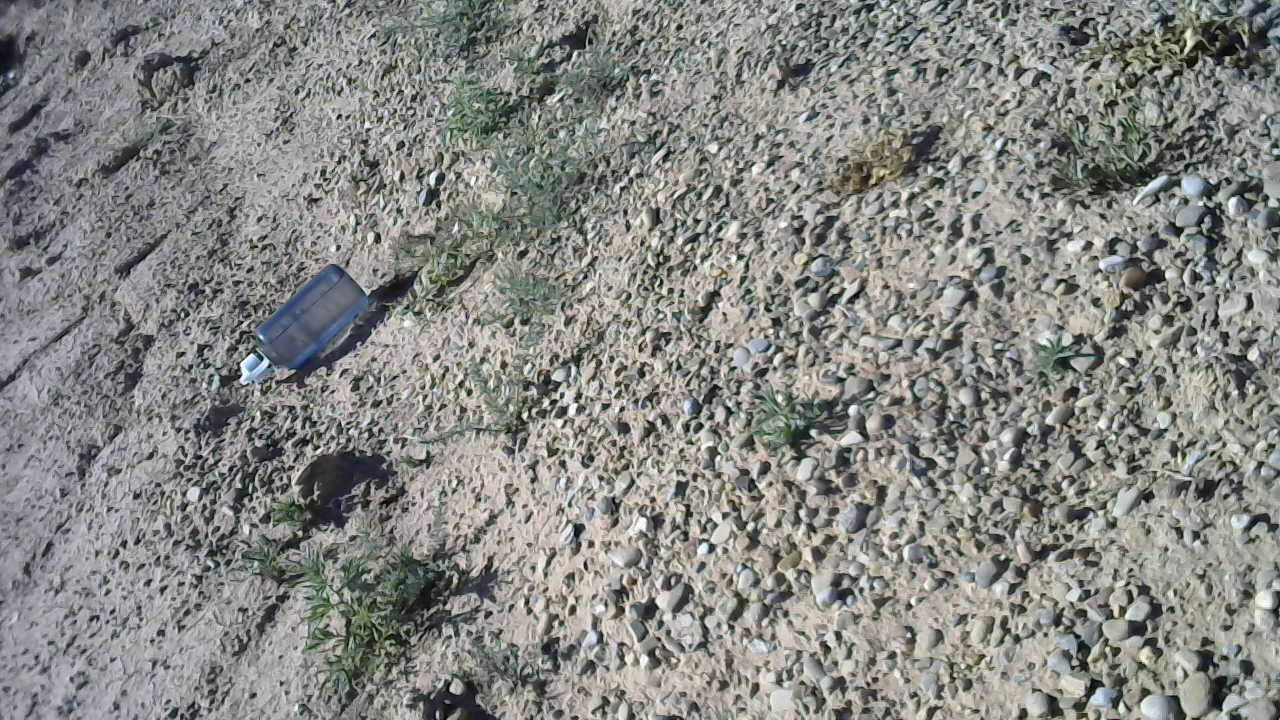bottle: (235, 261, 368, 385)
